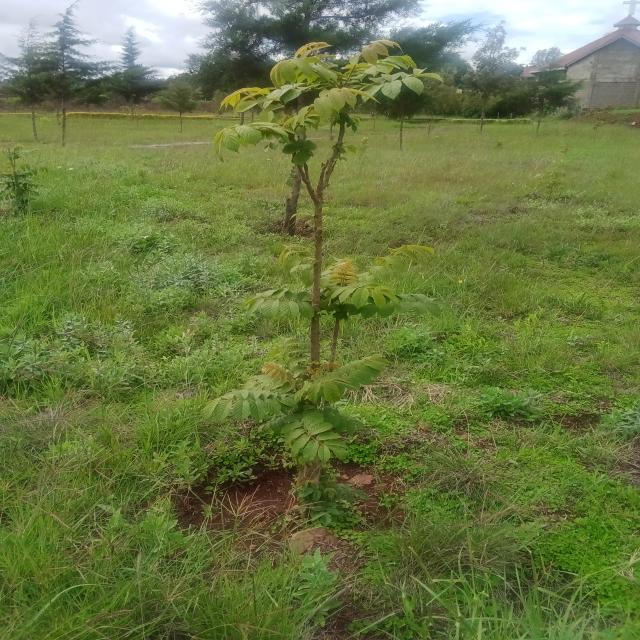Juniperus procesera: (211, 0, 473, 114), (1, 5, 115, 141), (99, 27, 167, 131)
Polyscias Kikuyensis: (212, 38, 464, 457)
